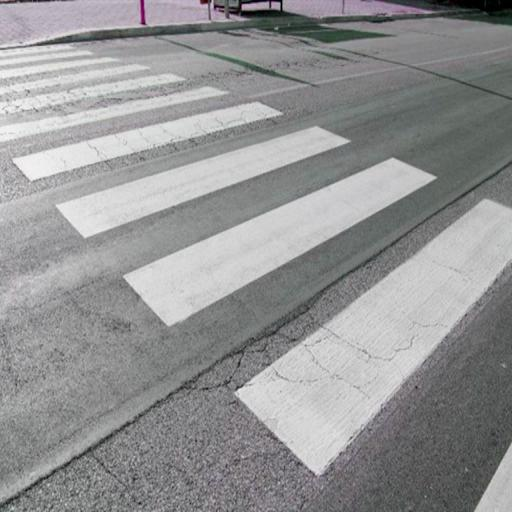crosswalk: (10, 96, 392, 246)
